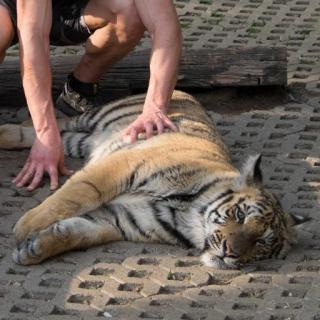Tiger: (8, 96, 310, 270)
